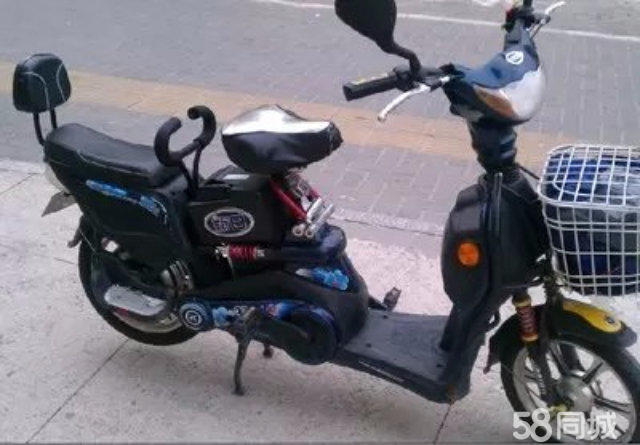电动车: (10, 1, 638, 442)
